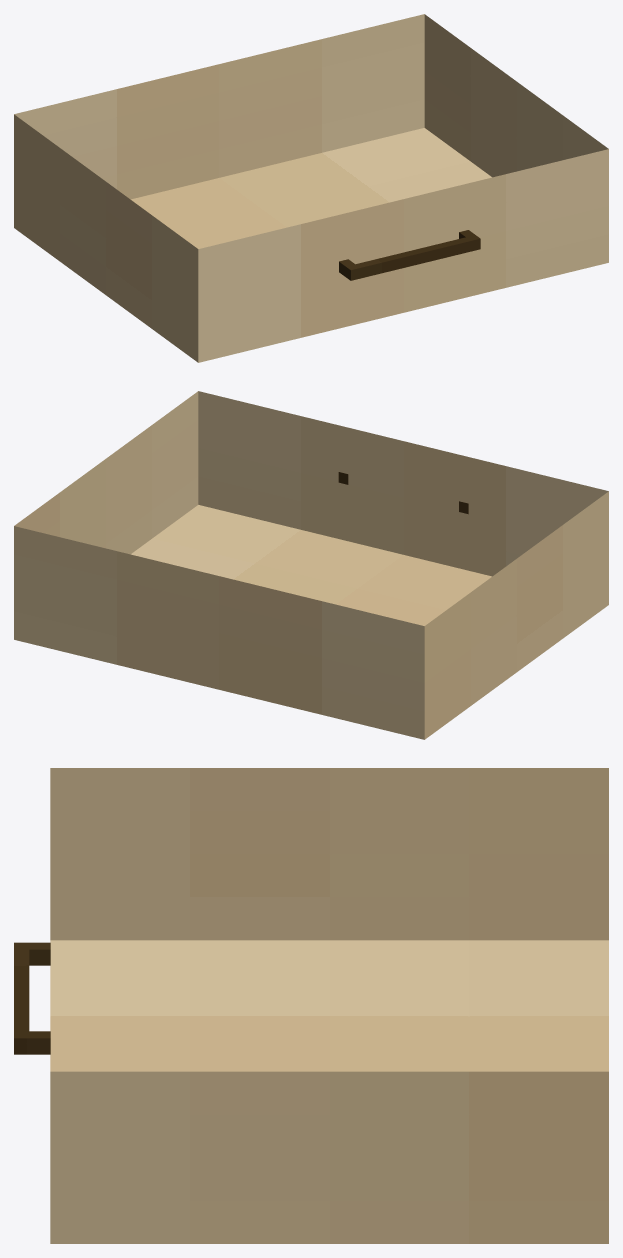
The model's file is Cajon.obj.
The picture shows the model from 3 angles, top to bottom: view 1: azimuth 30°, elevation 25°; view 2: azimuth 150°, elevation 25°; view 3: azimuth 270°, elevation 25°; orthographic projection. The views are drawn at different scales.
Visible parts, largest first — view 1: pCube2; view 2: pCube2; view 3: pCube2.
Part boxes in pixels (x1=…): pCube2: x1=14, y1=14, x2=608, y2=362; pCube2: x1=14, y1=391, x2=608, y2=739; pCube2: x1=14, y1=768, x2=608, y2=1243.
Bounding box in the file's own units: 1.09 × 0.2886 × 0.9031.
Materials: 2 (2 with a texture image).
